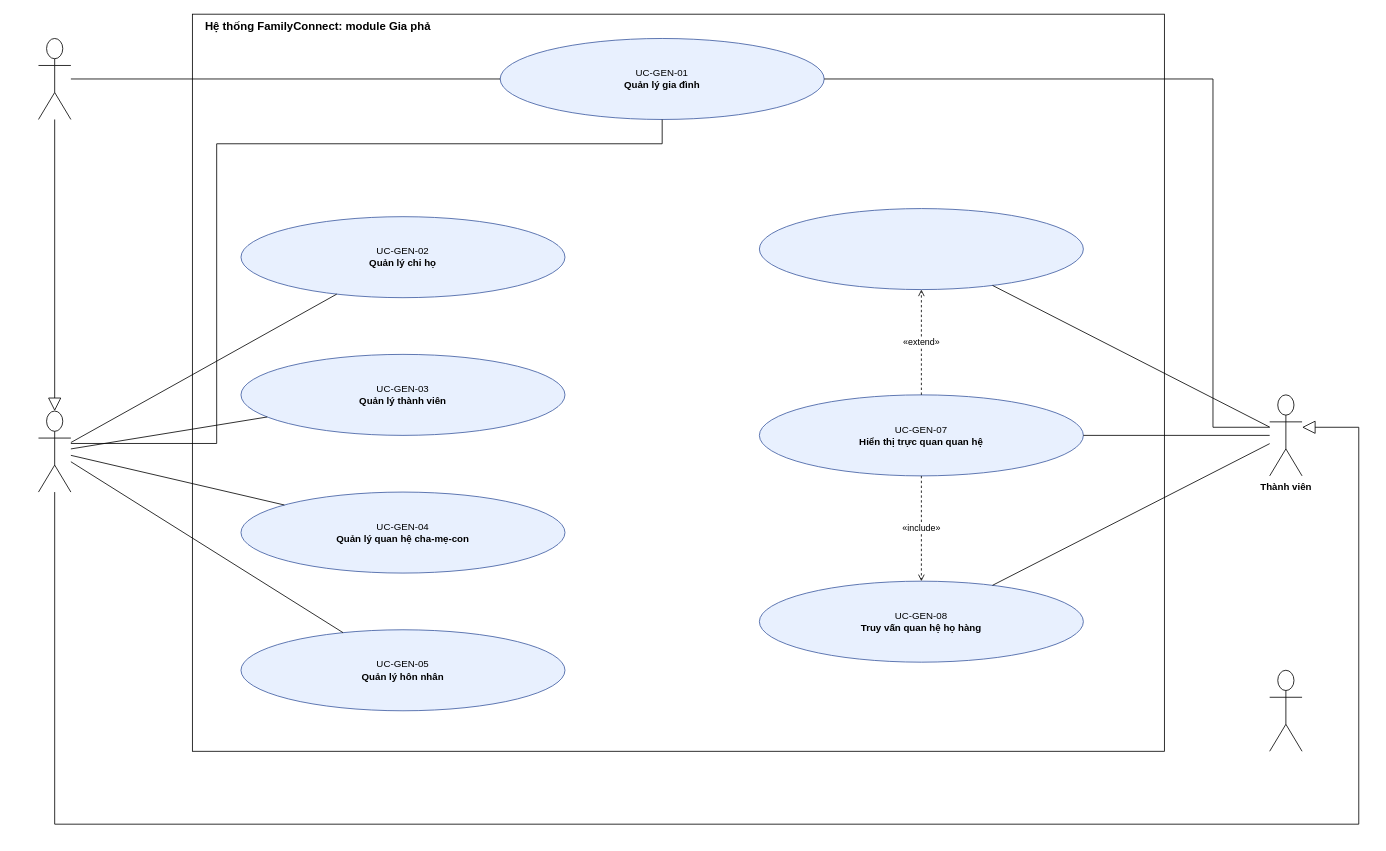
Some shapes in this 1386 by 851 pixel diagram are drawn without their labels. Here are the shapes that lost their labels. From the top down, the box of each, then its label:
(38, 38, 71, 119): Quản trị hệ thống
(759, 208, 1083, 290): UC-GEN-06 Xem cây gia phả
(38, 410, 71, 492): Trưởng chi
(1269, 669, 1302, 751): Khách
